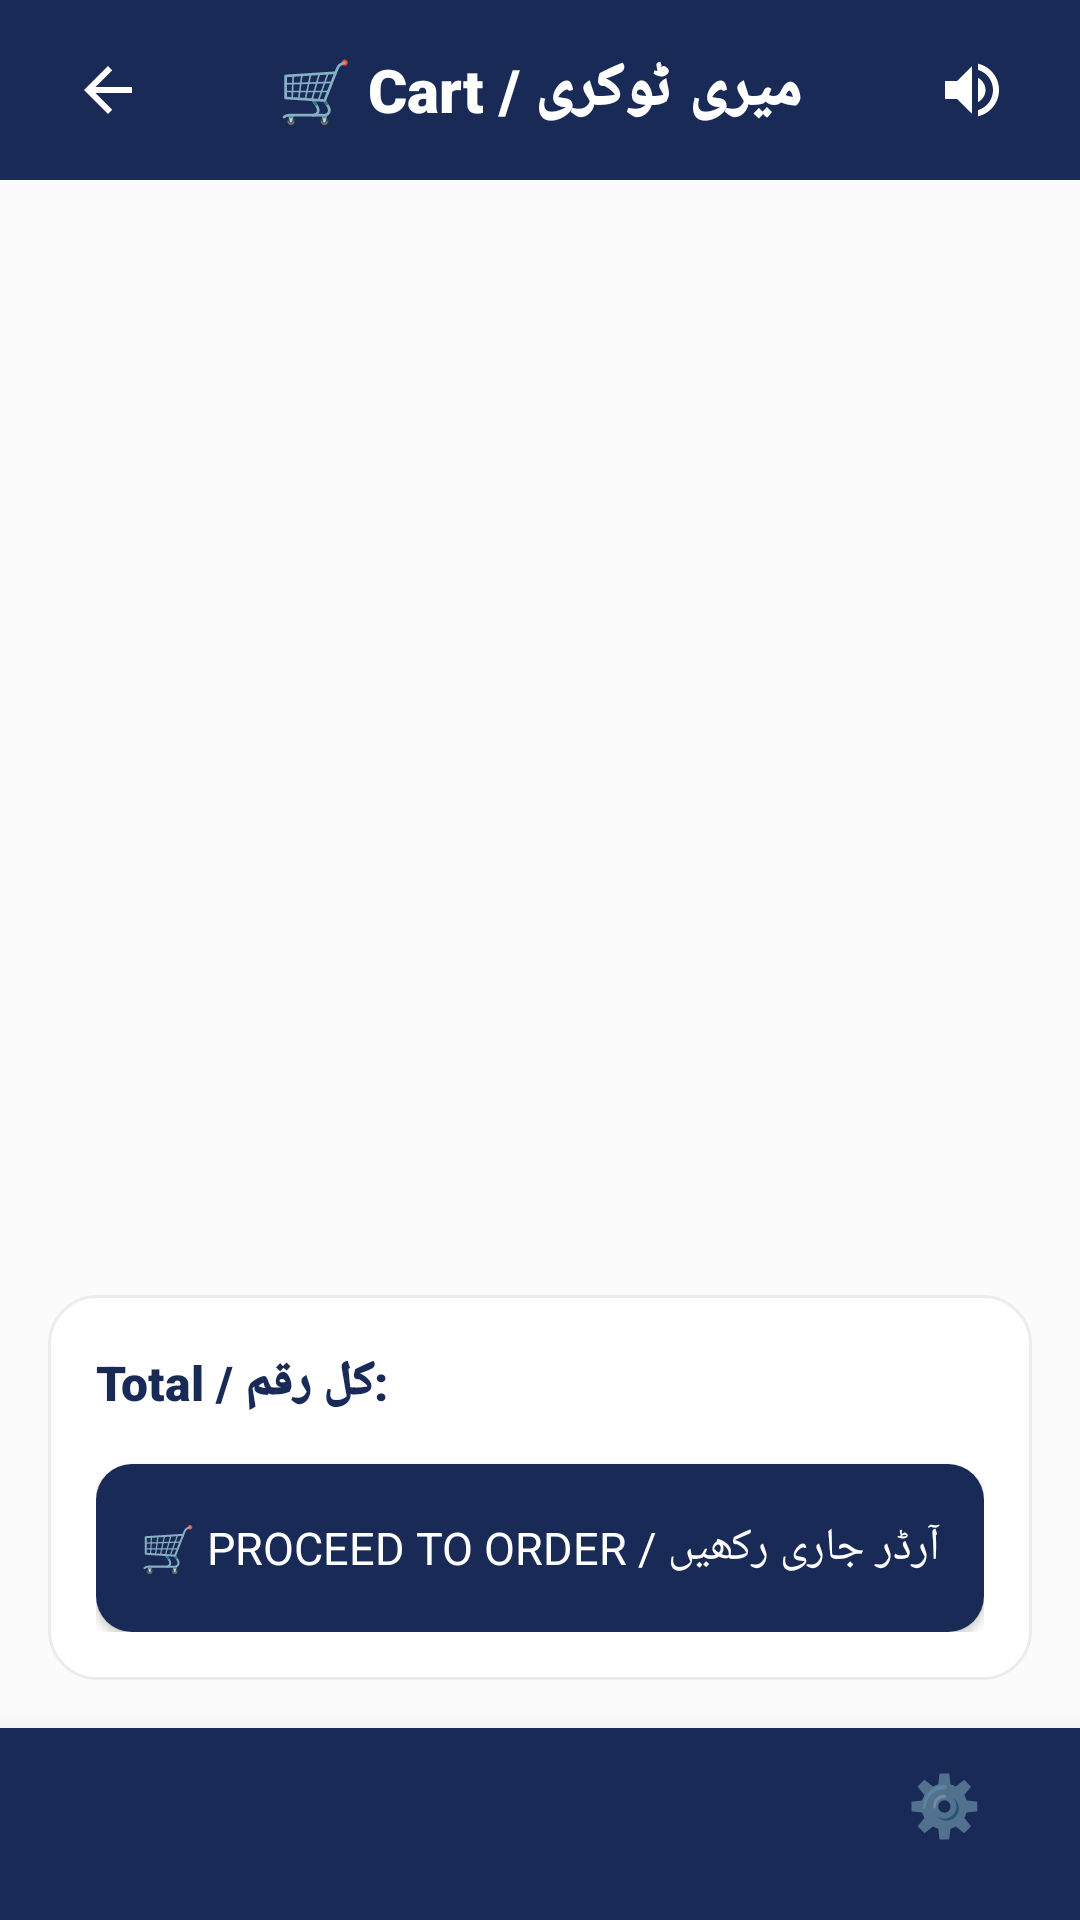

Icons on this 1080px×1920px Android screen, each with its box as rect(x1, y1, x2, y2):
Back: rect(84, 66, 132, 114)
Speaker: rect(945, 63, 999, 117)
